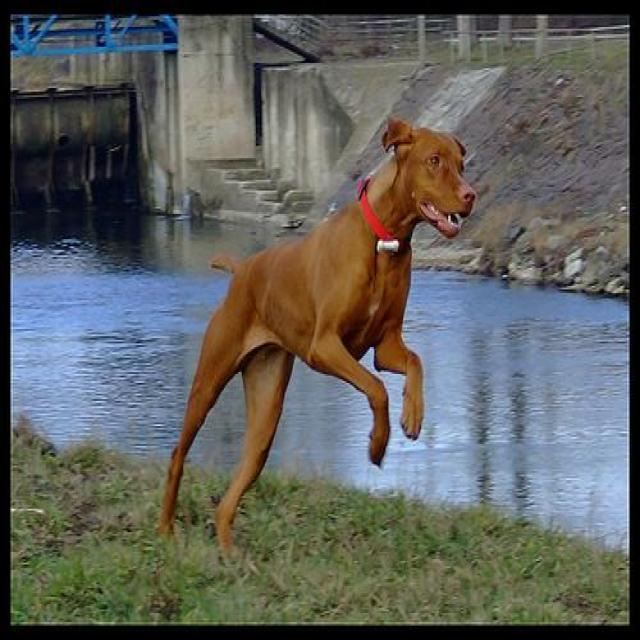vizsla: (157, 112, 479, 558)
